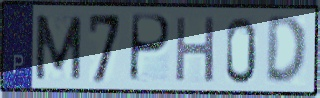0: (224, 14, 259, 86)
7: (87, 11, 122, 85)
D: (264, 13, 310, 88)
H: (173, 14, 218, 85)
M: (33, 12, 84, 82)
P: (126, 12, 173, 85)
